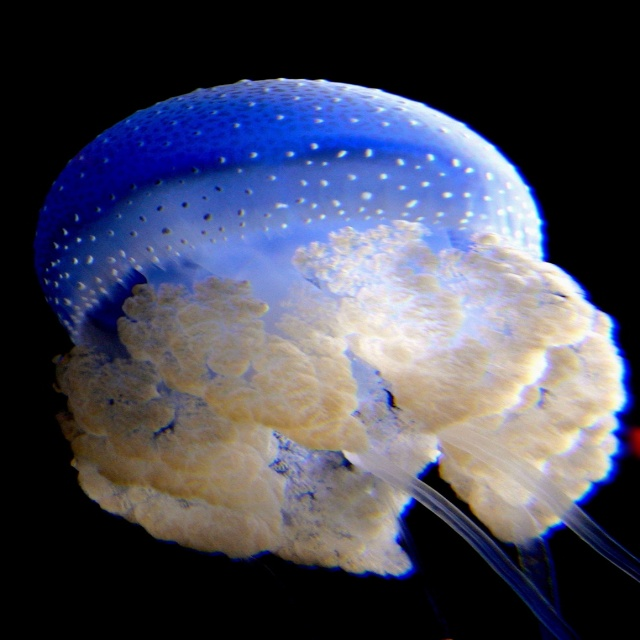Jellyfish: (29, 77, 638, 640)
